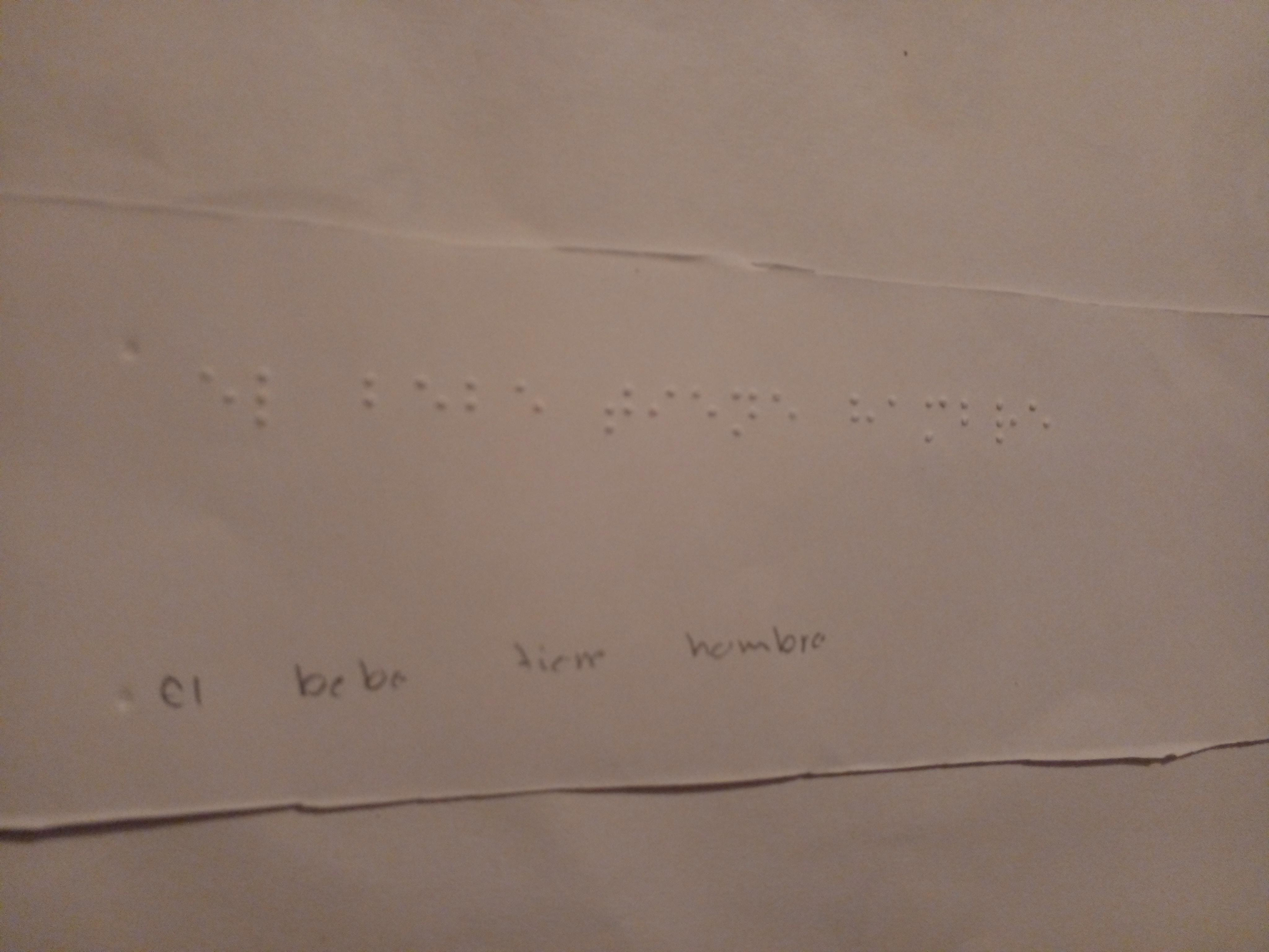a: (875, 386, 905, 425)
b: (353, 361, 390, 426), (459, 364, 491, 434), (959, 386, 982, 431)
e: (191, 358, 242, 431), (764, 380, 809, 446), (511, 370, 555, 437), (415, 364, 448, 426), (691, 373, 720, 442), (1032, 386, 1056, 451)
h: (847, 381, 877, 442)
i: (644, 378, 678, 435)
l: (246, 366, 276, 429)
m: (922, 383, 951, 445)
n: (725, 378, 761, 448)
r: (990, 395, 1024, 454)
t: (599, 373, 638, 437)
